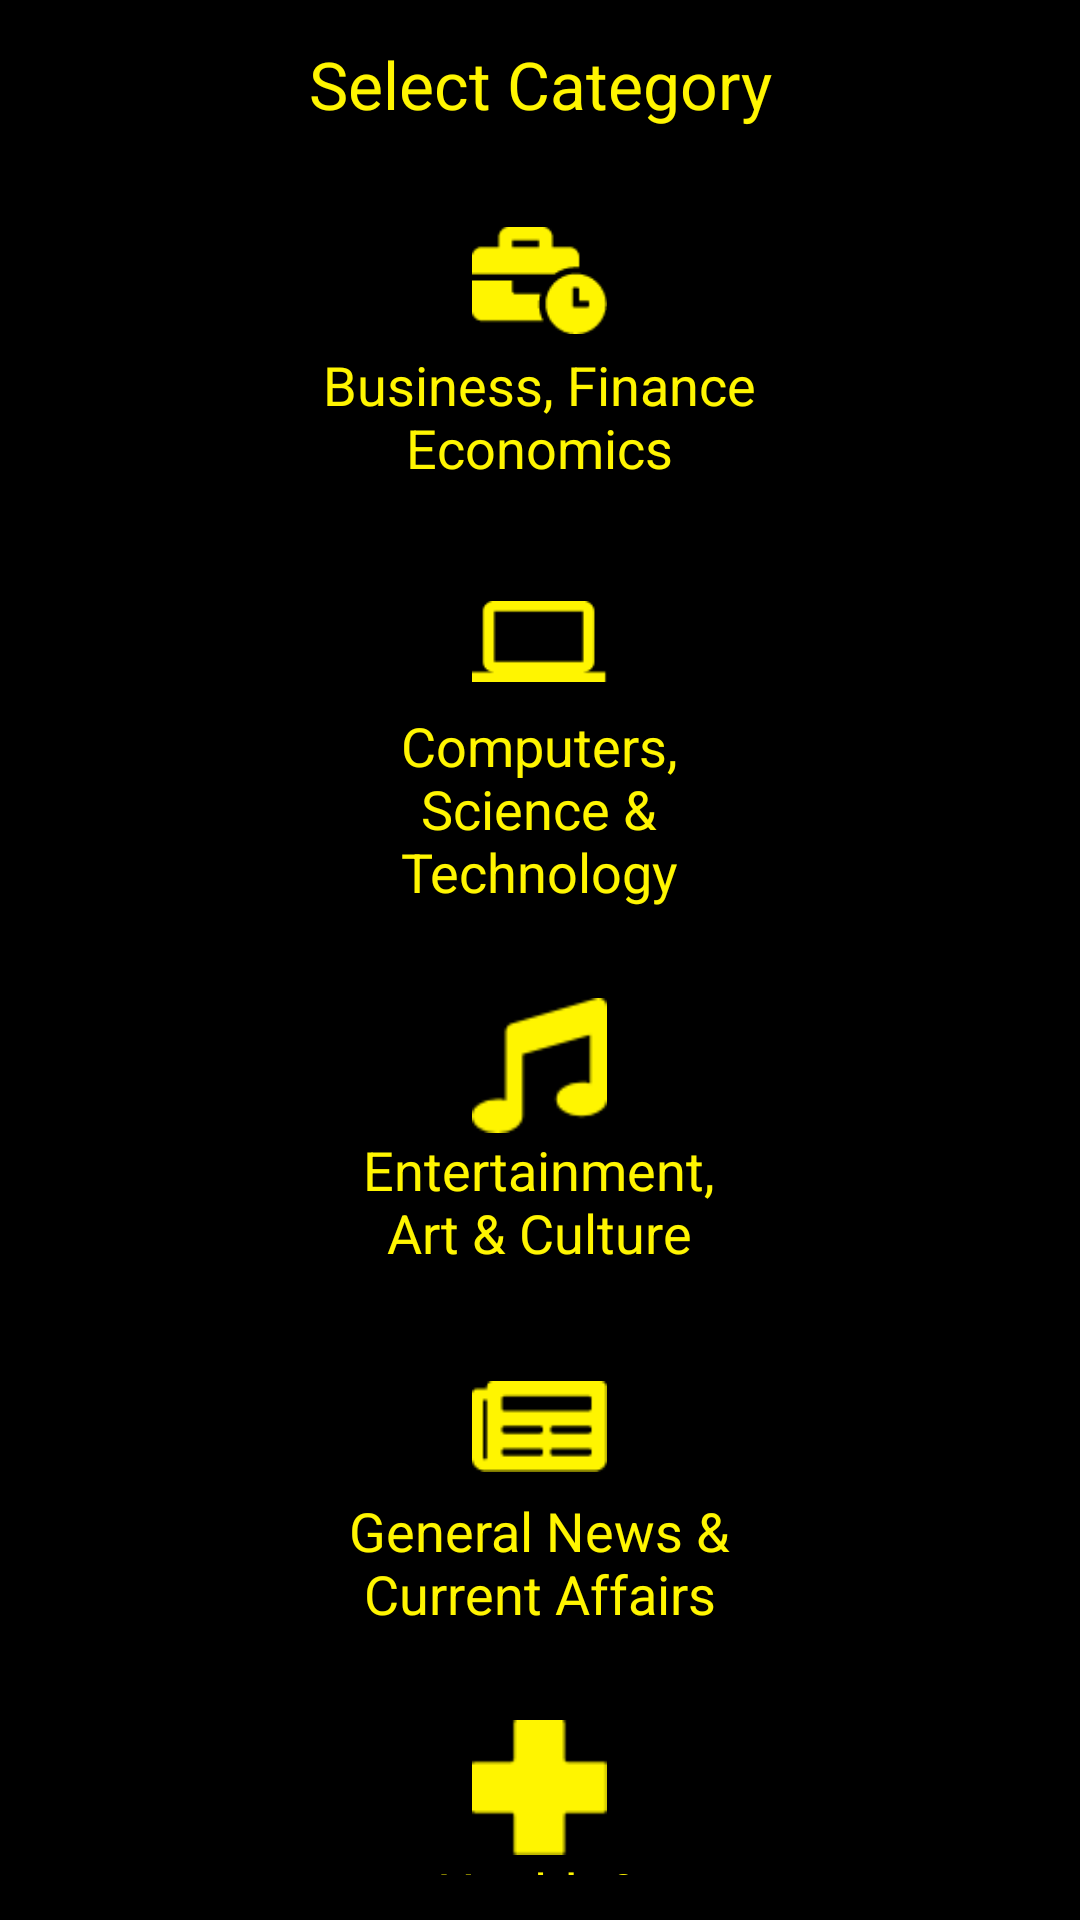

Screen size 1080w x 1920h. Icon name, then its box in pixels as bbox=(x1, y1, x2, y2):
music: bbox=(472, 998, 607, 1133)
